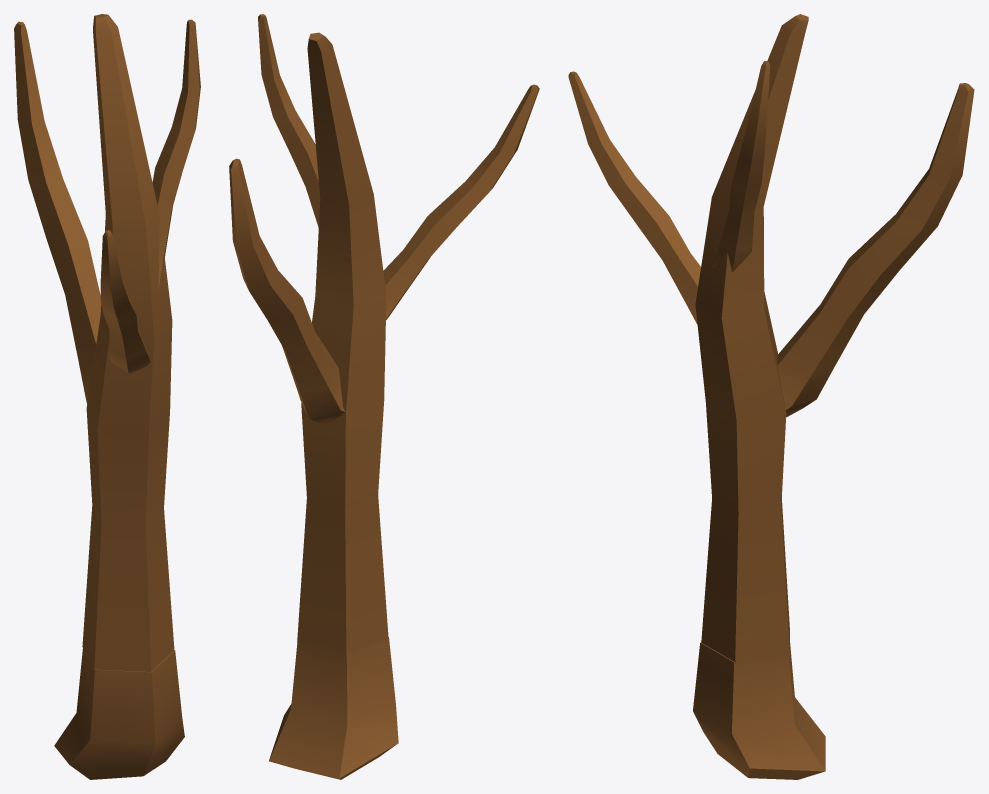
File: TreeStick(1).fbx
3 renders of one model, left to right at view 1: azimuth 30°, elevation 25°; view 2: azimuth 150°, elevation 25°; view 3: azimuth 270°, elevation 25°, orthographic.
Visible parts, largest first — view 1: Cylinder, Cylinder.001; view 2: Cylinder, Cylinder.001; view 3: Cylinder, Cylinder.001.
Boxes of the visible parts, x1,y1,x2,y2 form: Cylinder: (14,14,200,671); Cylinder.001: (54,648,184,779); Cylinder: (229,14,539,654); Cylinder.001: (269,637,398,779); Cylinder: (568,14,974,663); Cylinder.001: (693,642,825,779).
Size of the model in its own units: 145 by 549 by 269.
2 materials, 2 textured.
